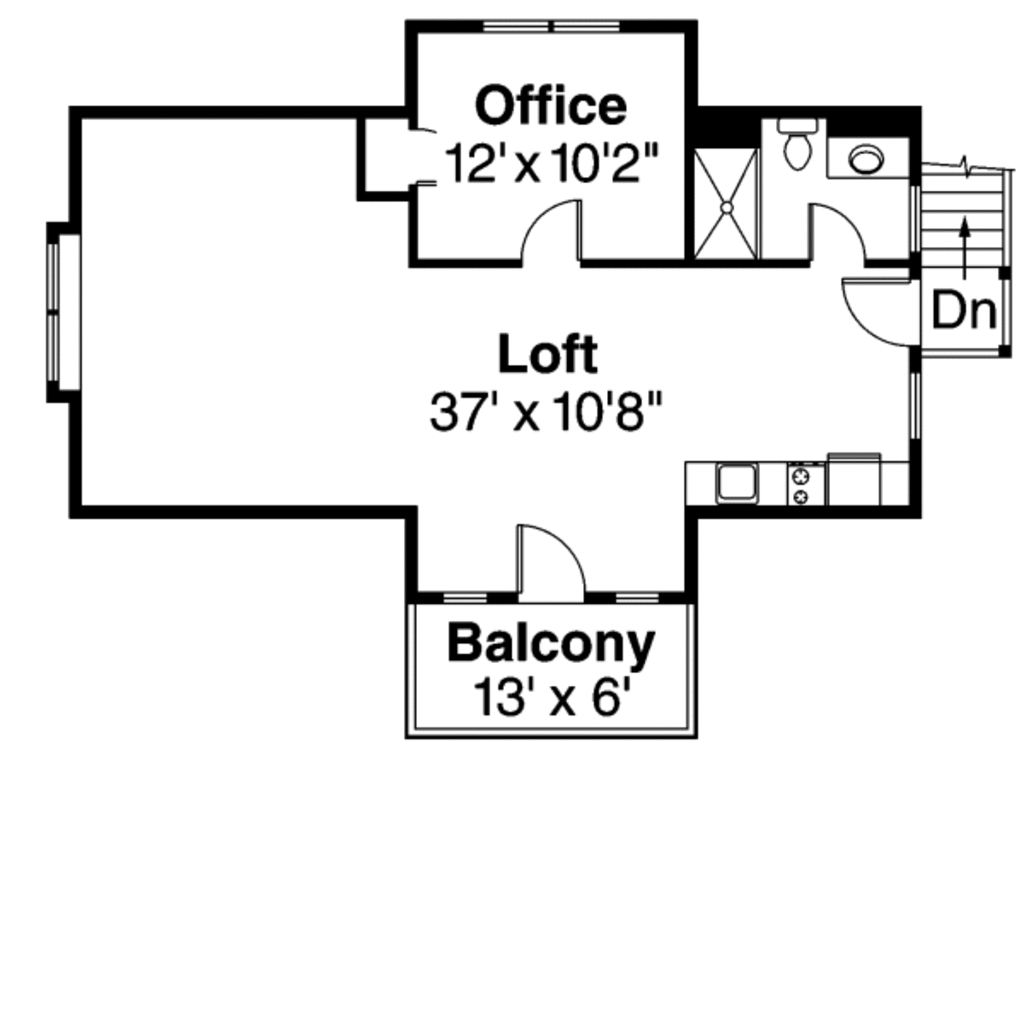door: (509, 515, 597, 618), (837, 267, 926, 353), (515, 190, 589, 272), (800, 200, 866, 267)
large_sink: (772, 120, 825, 178)
small_sink: (832, 135, 908, 177)
stairs: (923, 163, 1017, 360)
window: (486, 15, 619, 37), (43, 237, 62, 381), (902, 366, 928, 437), (443, 589, 499, 606), (619, 589, 660, 604)
